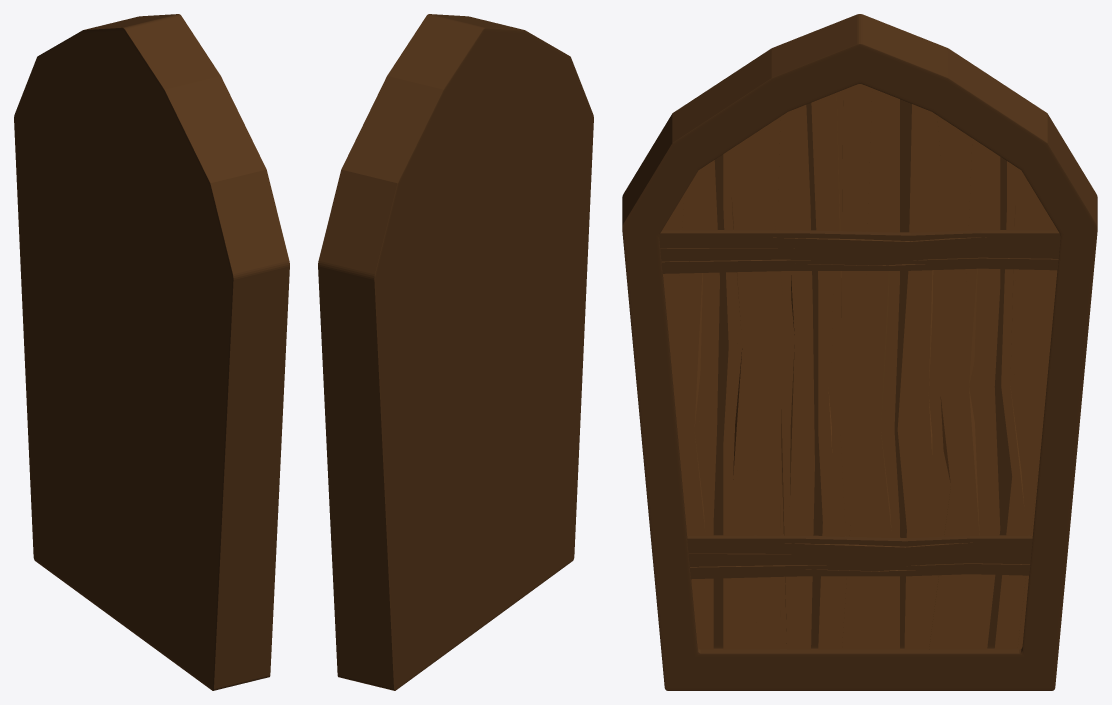
Rendered from Door.fbx.
The picture shows the model from 3 angles, left to right: view 1: azimuth 30°, elevation 25°; view 2: azimuth 150°, elevation 25°; view 3: azimuth 270°, elevation 25°; orthographic projection. The views are drawn at different scales.
Visible parts, largest first — view 1: Door; view 2: Door; view 3: Door, 4, 3, 2, 6, 1, 5, 7.
Part boxes in pixels (box(x1,y1,x2,y2)): Door: box(14, 14, 289, 690); Door: box(318, 14, 593, 690); Door: box(622, 14, 1097, 690); 4: box(897, 104, 1000, 649); 3: box(811, 84, 899, 649); 2: box(723, 105, 814, 649); 6: box(659, 230, 1060, 273); 1: box(662, 160, 719, 649); 5: box(994, 161, 1057, 649); 7: box(687, 535, 1032, 579).
Bounding box in the file's own units: 91.19 × 914 × 609.
